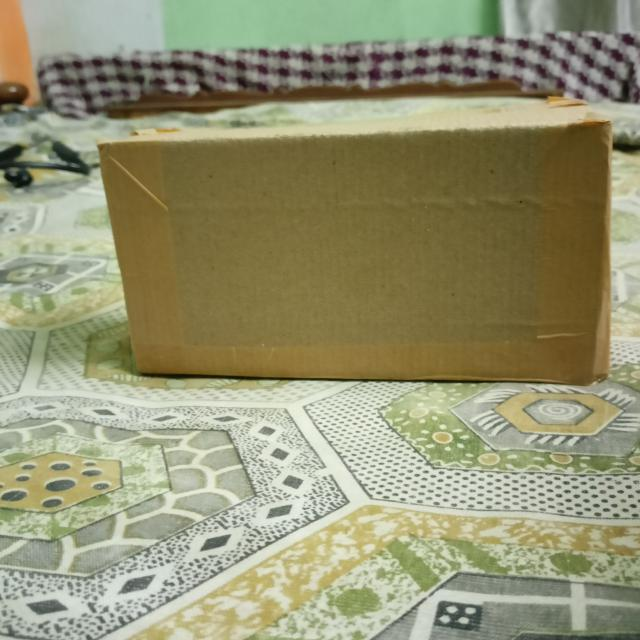box: (95, 121, 611, 381)
